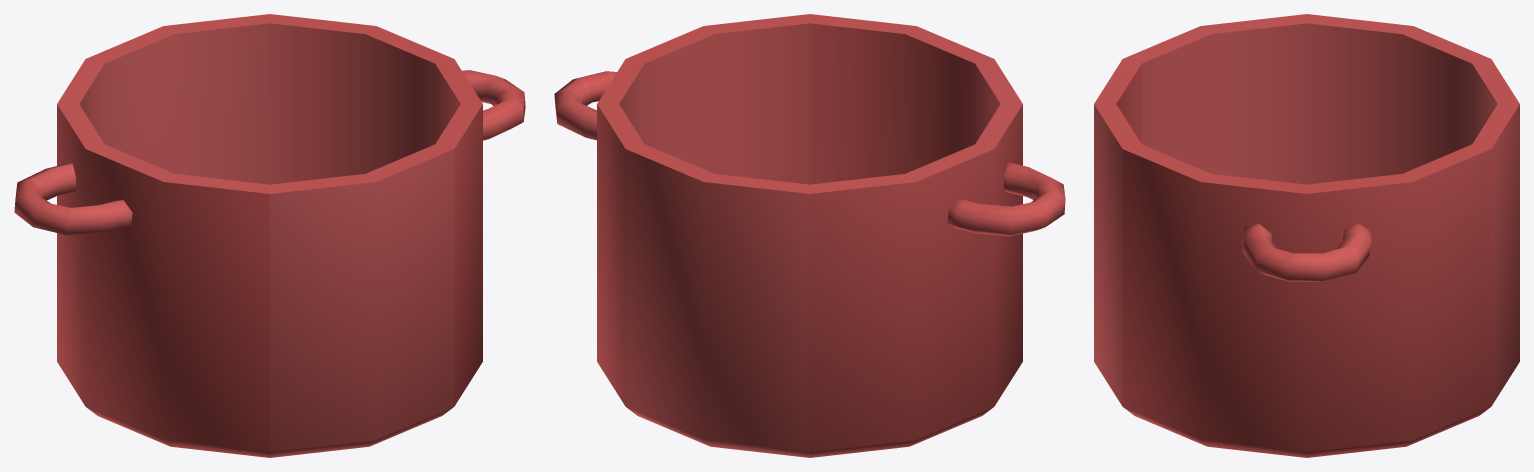
The model's file is Pan.fbx.
3 renders of one model, left to right at view 1: azimuth 30°, elevation 25°; view 2: azimuth 150°, elevation 25°; view 3: azimuth 270°, elevation 25°, orthographic.
Visible parts, largest first — view 1: Pan; view 2: Pan; view 3: Pan.
Part boxes in pixels (x1=…): Pan: x1=14, y1=14, x2=525, y2=457; Pan: x1=554, y1=14, x2=1065, y2=457; Pan: x1=1094, y1=14, x2=1519, y2=457.
Size of the model in its own units: 89.48 by 46.96 by 67.17.
